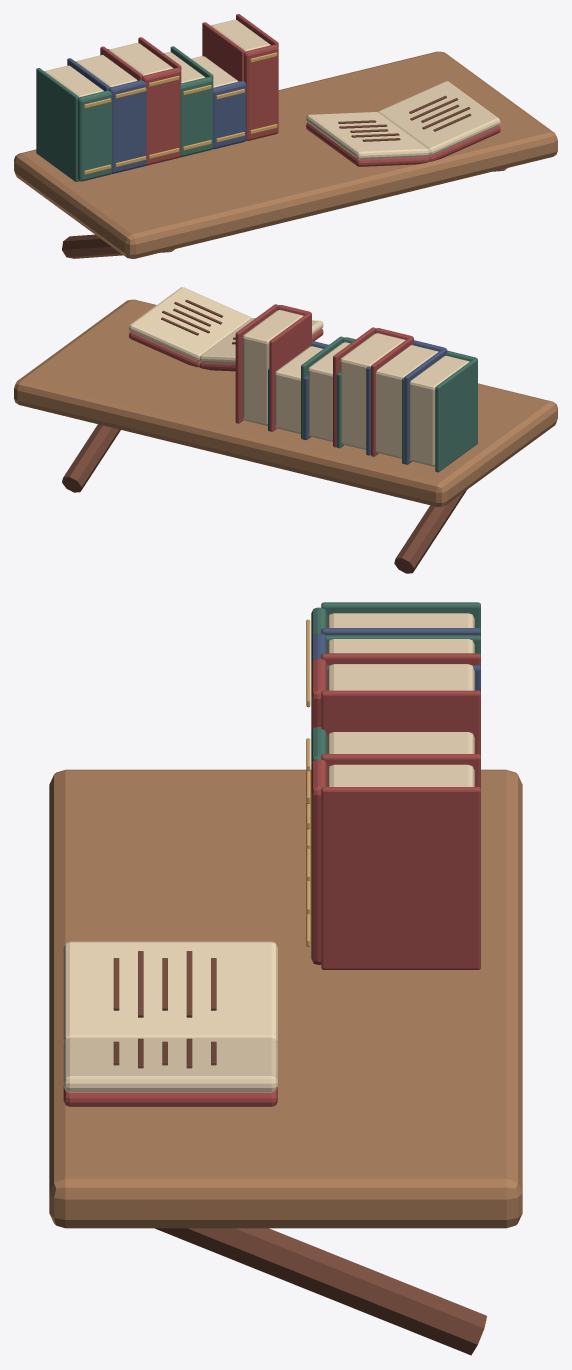
The model's file is plaza-winter-bookseller.glb.
3 renders of one model, top to bottom at view 1: azimuth 30°, elevation 25°; view 2: azimuth 150°, elevation 25°; view 3: azimuth 270°, elevation 25°, orthographic. The views are drawn at different scales.
Parts seen in each view (by area): view 1: plaza-winter-bookseller; view 2: plaza-winter-bookseller; view 3: plaza-winter-bookseller.
Boxes of the visible parts, box(x1,y1,x2,y2) form: plaza-winter-bookseller: box(14, 14, 557, 258); plaza-winter-bookseller: box(14, 287, 557, 573); plaza-winter-bookseller: box(49, 602, 522, 1355).
Size of the model in its own units: 1.56 by 0.6998 by 0.74.
